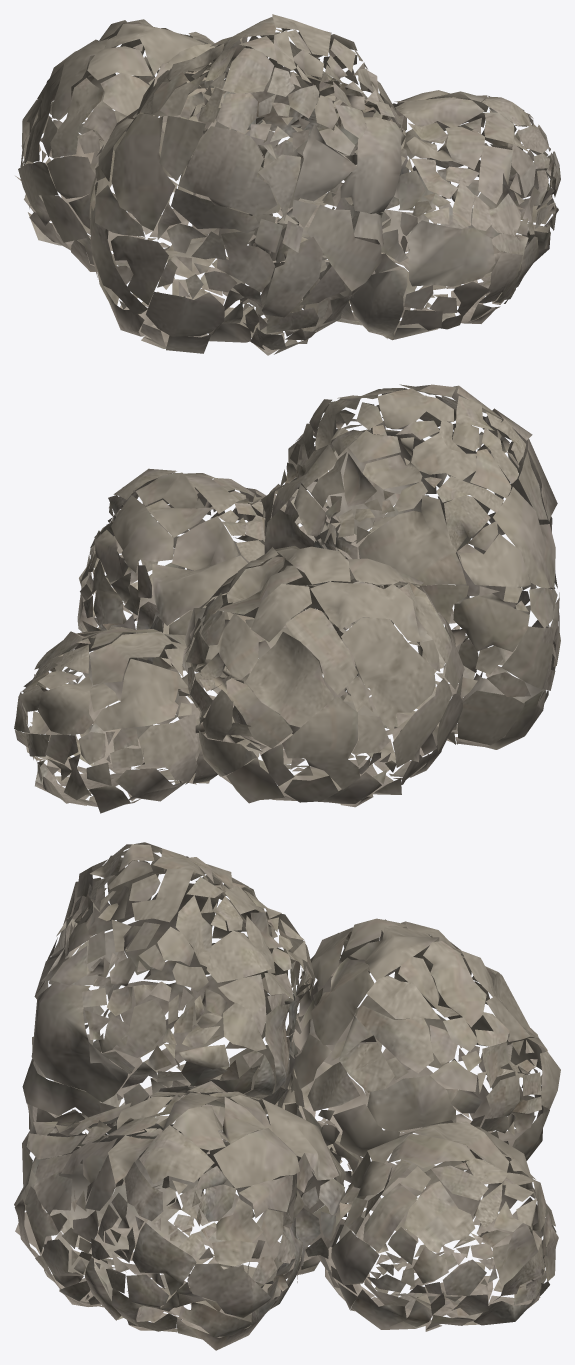
Rendered from rocks.glb.
The picture shows the model from 3 angles, top to bottom: view 1: azimuth 30°, elevation 25°; view 2: azimuth 150°, elevation 25°; view 3: azimuth 270°, elevation 25°; orthographic projection. The views are drawn at different scales.
Visible parts, largest first — view 1: Mesh_0; view 2: Mesh_0; view 3: Mesh_0.
Part boxes in pixels (x1,y1,x2,y2): Mesh_0: (15,14,560,355); Mesh_0: (14,384,560,813); Mesh_0: (14,842,560,1350).
Size of the model in its own units: 1.9 by 1.35 by 1.8.
Materials: 1 (1 with a texture image).
